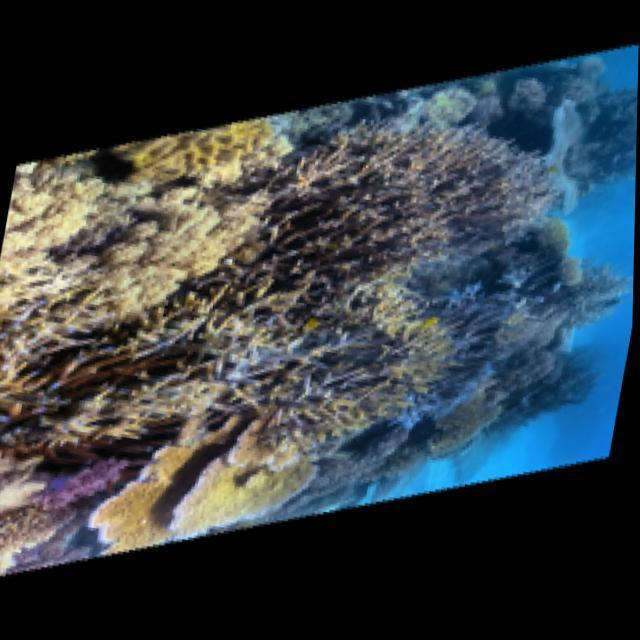Dead Coral: (251, 76, 589, 397), (209, 253, 477, 500)
